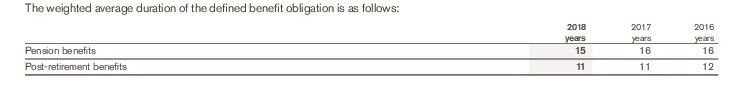table: (0, 0, 739, 93)
